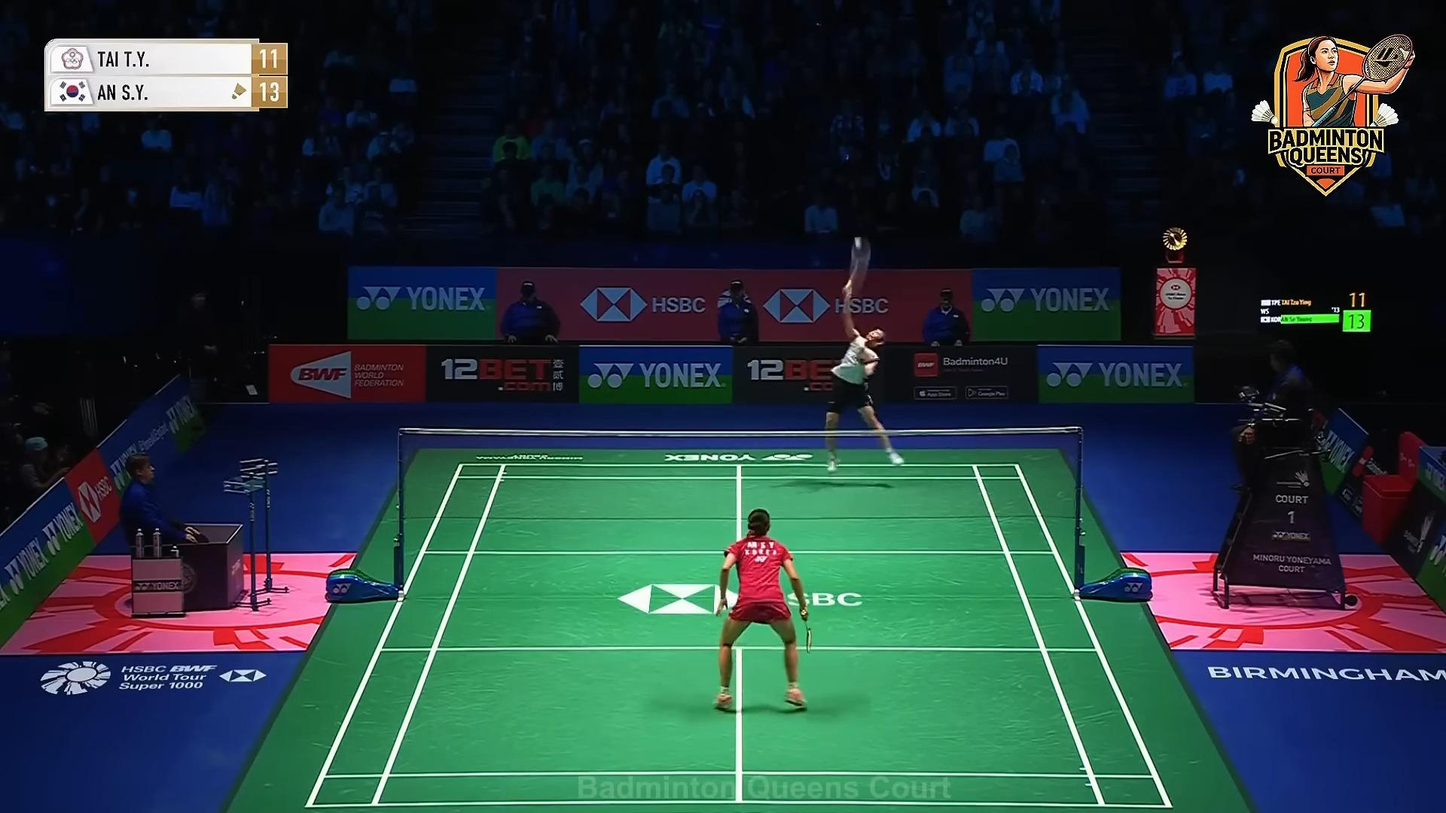player: (715, 509, 810, 712), (822, 261, 905, 473)
shuttlecock: (854, 235, 863, 251)
